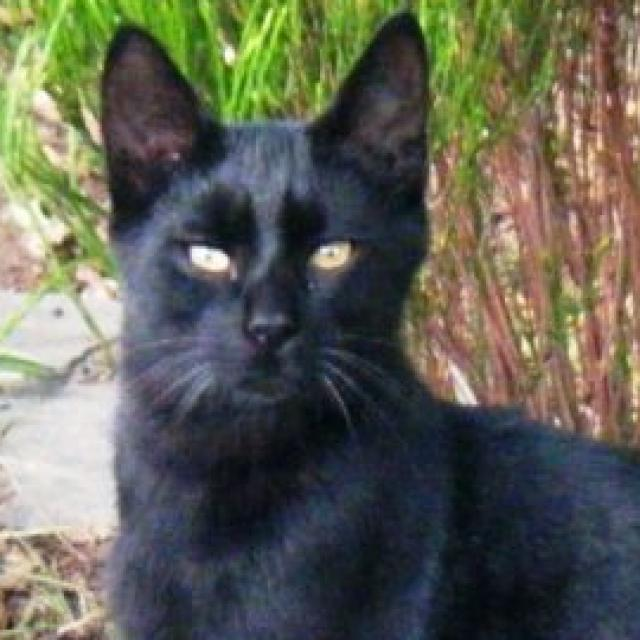Bombay: (95, 2, 640, 640)
